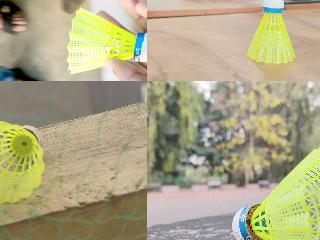shuttlecock: (231, 141, 319, 239), (66, 7, 146, 76), (0, 120, 45, 203), (246, 0, 296, 63)
